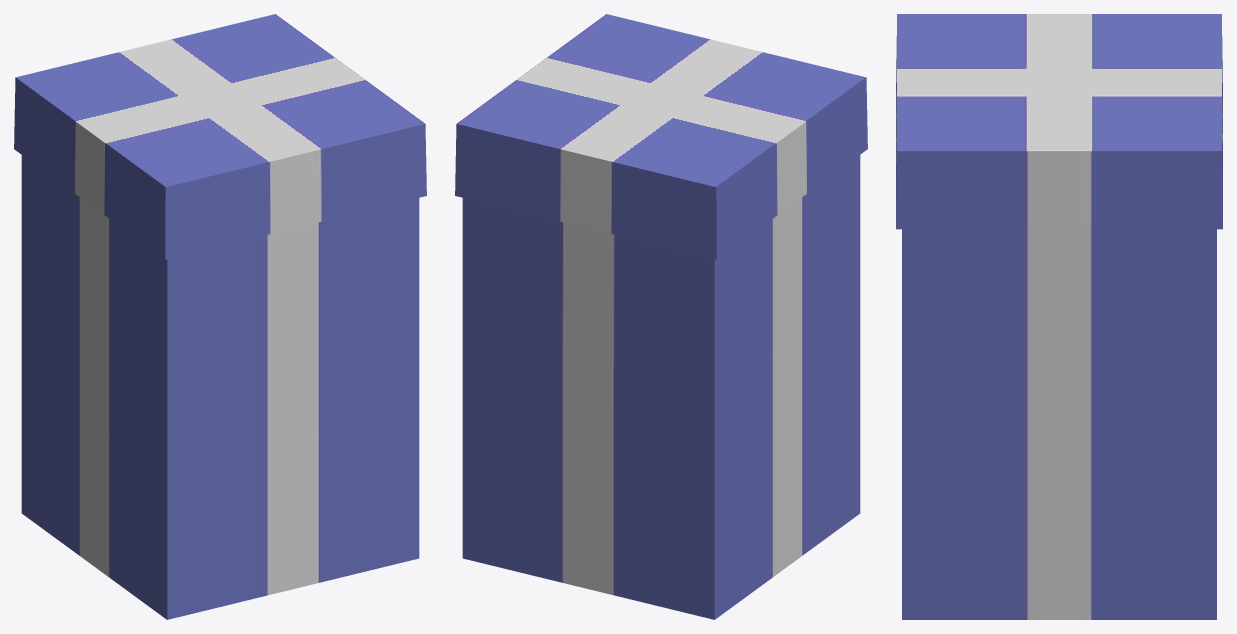
The picture shows the model from 3 angles, left to right: view 1: azimuth 30°, elevation 25°; view 2: azimuth 150°, elevation 25°; view 3: azimuth 270°, elevation 25°; orthographic projection. The views are drawn at different scales.
Parts seen in each view (by area): view 1: Cube.009; view 2: Cube.009; view 3: Cube.009.
Part boxes in pixels (x1=…): Cube.009: x1=14, y1=14, x2=426, y2=619; Cube.009: x1=455, y1=14, x2=867, y2=619; Cube.009: x1=896, y1=14, x2=1222, y2=619.
Size of the model in its own units: 9576 by 15219 by 9576.
5 materials, 3 textured.
